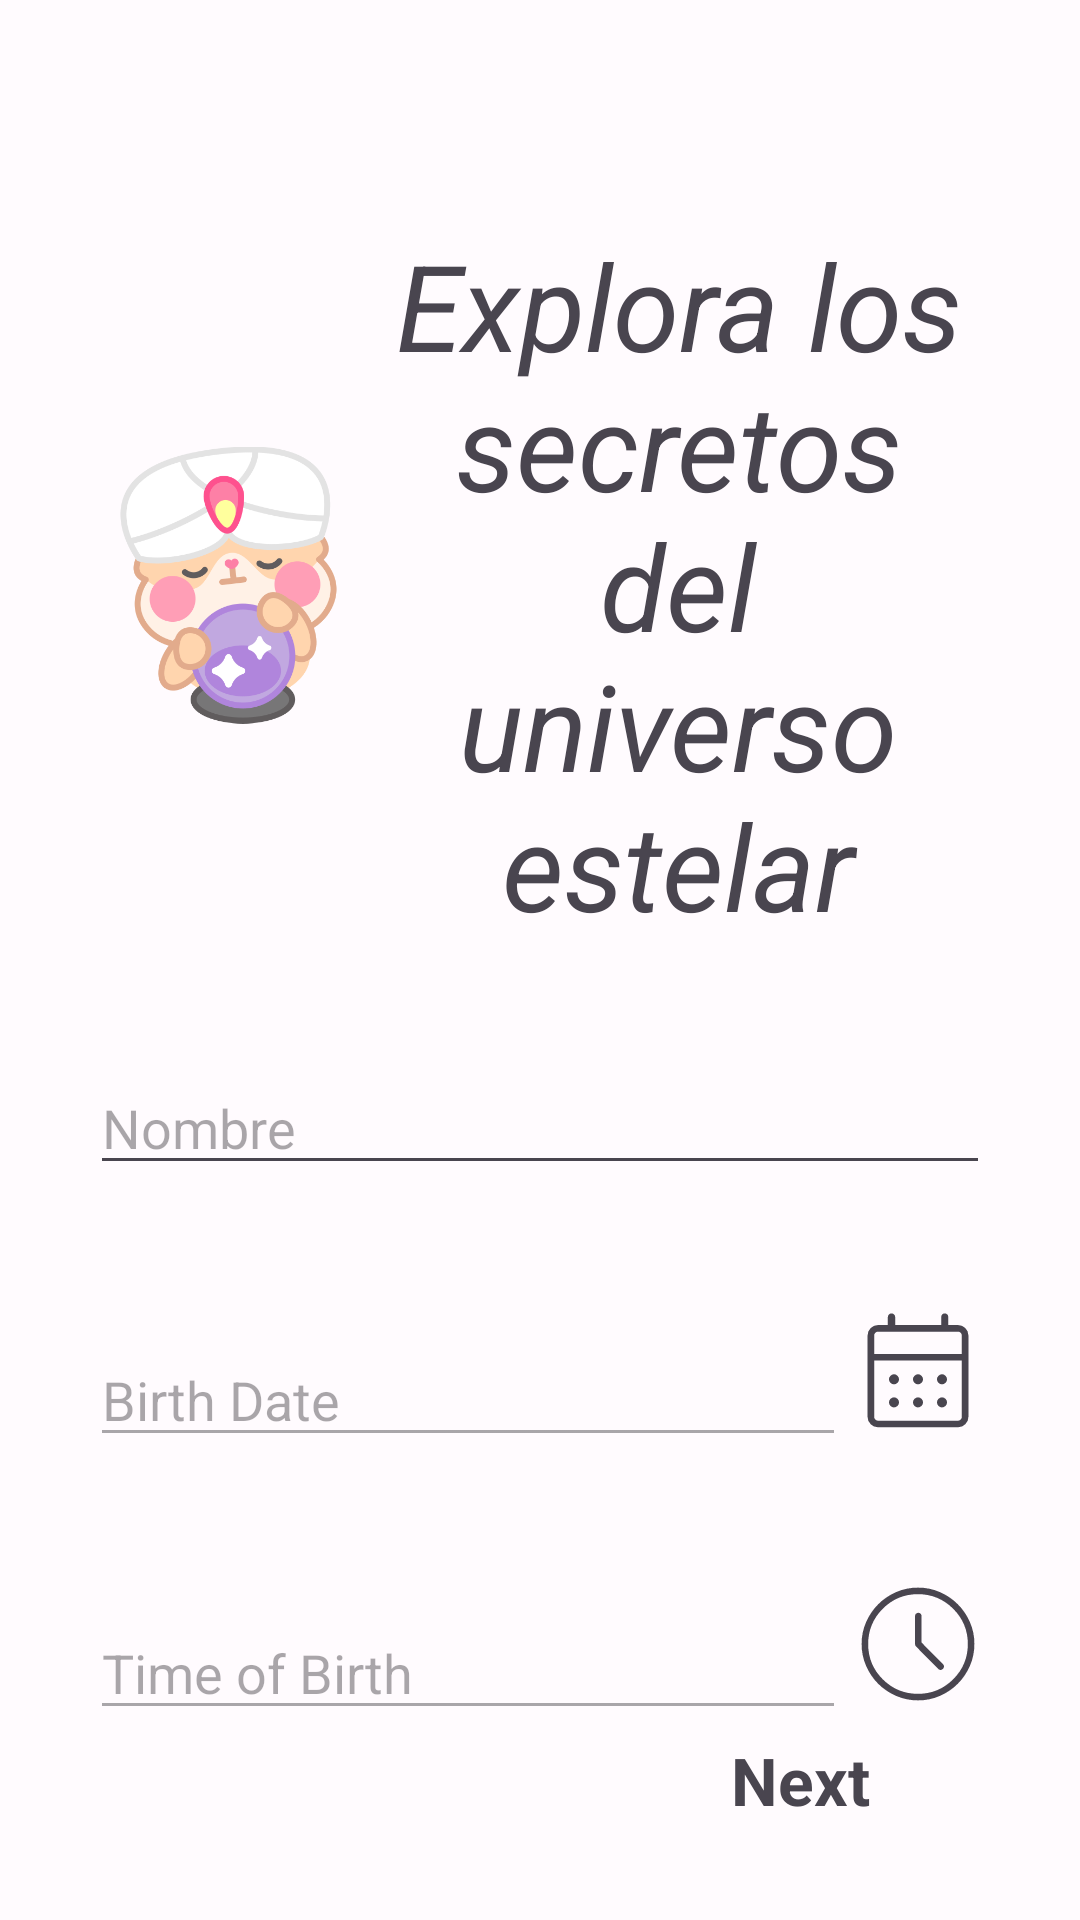

Where to tap for icons on this 1080px x 1920px app screen, as [x,y]:
crystal ball: [229,585]
